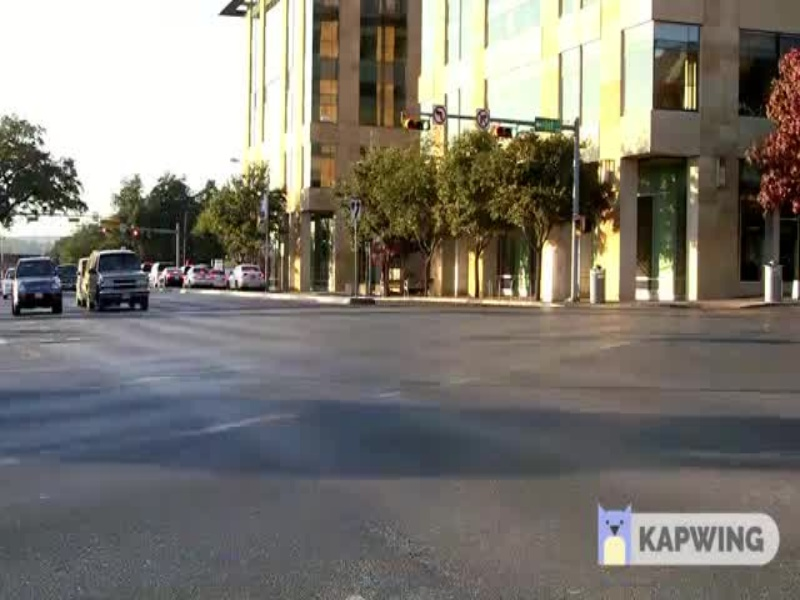car: (75, 250, 153, 314), (7, 250, 70, 321)
